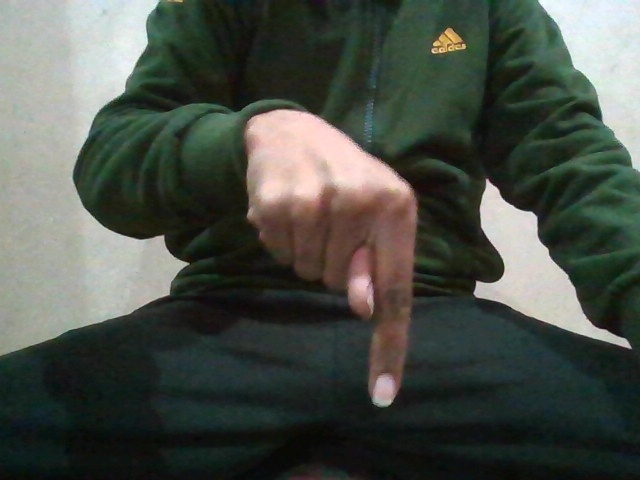Z: (246, 141, 424, 413)
